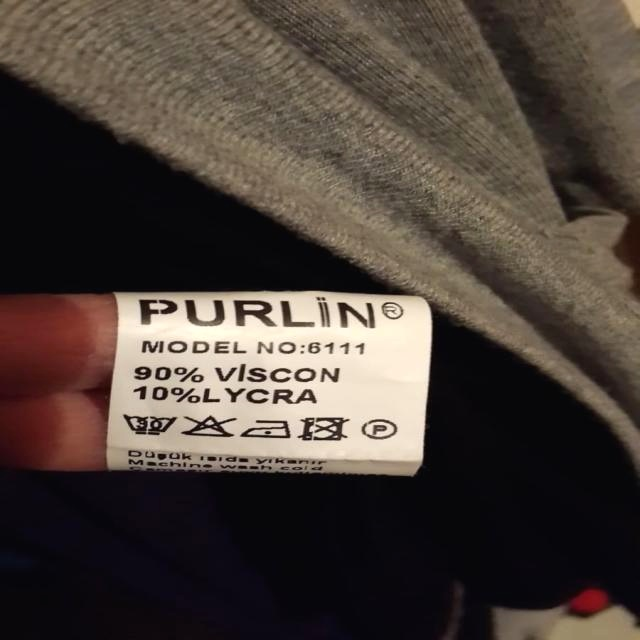30C: (121, 408, 180, 435)
DN_bleach: (184, 410, 240, 440)
DN_tumble_dry: (298, 413, 351, 444)
dry_clean_any_solvent_except_trichloroethylene: (360, 413, 402, 442)
iron_low: (243, 413, 293, 442)
